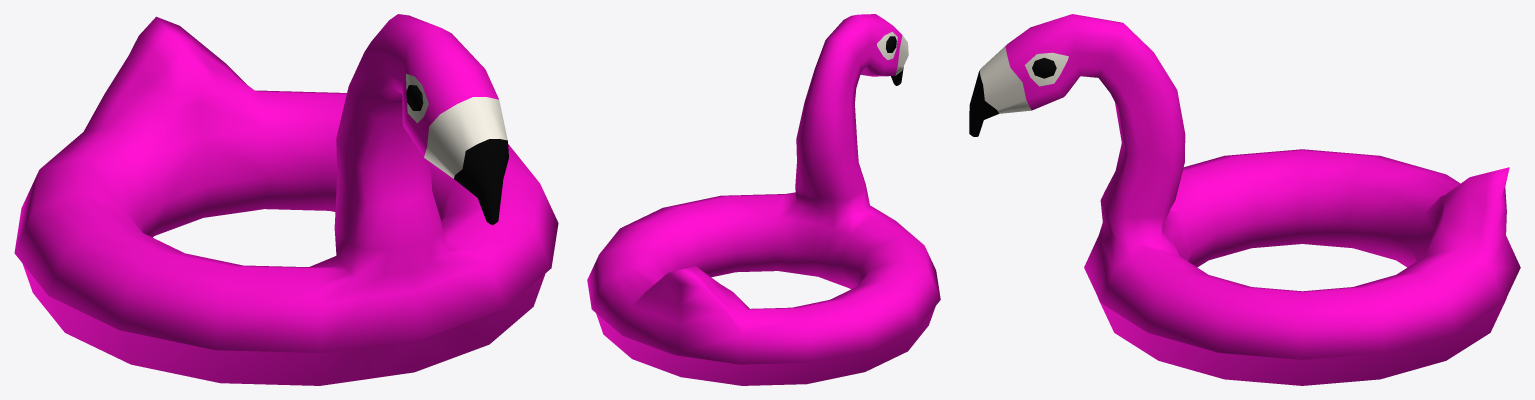
File: CUFlamingoFloatie.fbx
3 views of the same model, side by side, from view 1: azimuth 30°, elevation 25°; view 2: azimuth 150°, elevation 25°; view 3: azimuth 270°, elevation 25° (orthographic). The views are drawn at different scales.
Visible parts, largest first — view 1: FlamingoFloatie, BeakBase, BeakTip, EyeDetail; view 2: FlamingoFloatie; view 3: FlamingoFloatie, BeakBase, BeakTip, EyeDetail.
Boxes of the visible parts, <box> form: FlamingoFloatie: <box>14,14,558,385</box>; BeakBase: <box>424,97,507,178</box>; BeakTip: <box>454,139,508,225</box>; EyeDetail: <box>406,74,428,123</box>; FlamingoFloatie: <box>587,14,940,385</box>; FlamingoFloatie: <box>1005,14,1520,385</box>; BeakBase: <box>979,45,1031,113</box>; BeakTip: <box>969,71,998,136</box>; EyeDetail: <box>1025,52,1068,86</box>.
Size of the model in its own units: 240 by 181 by 304.
